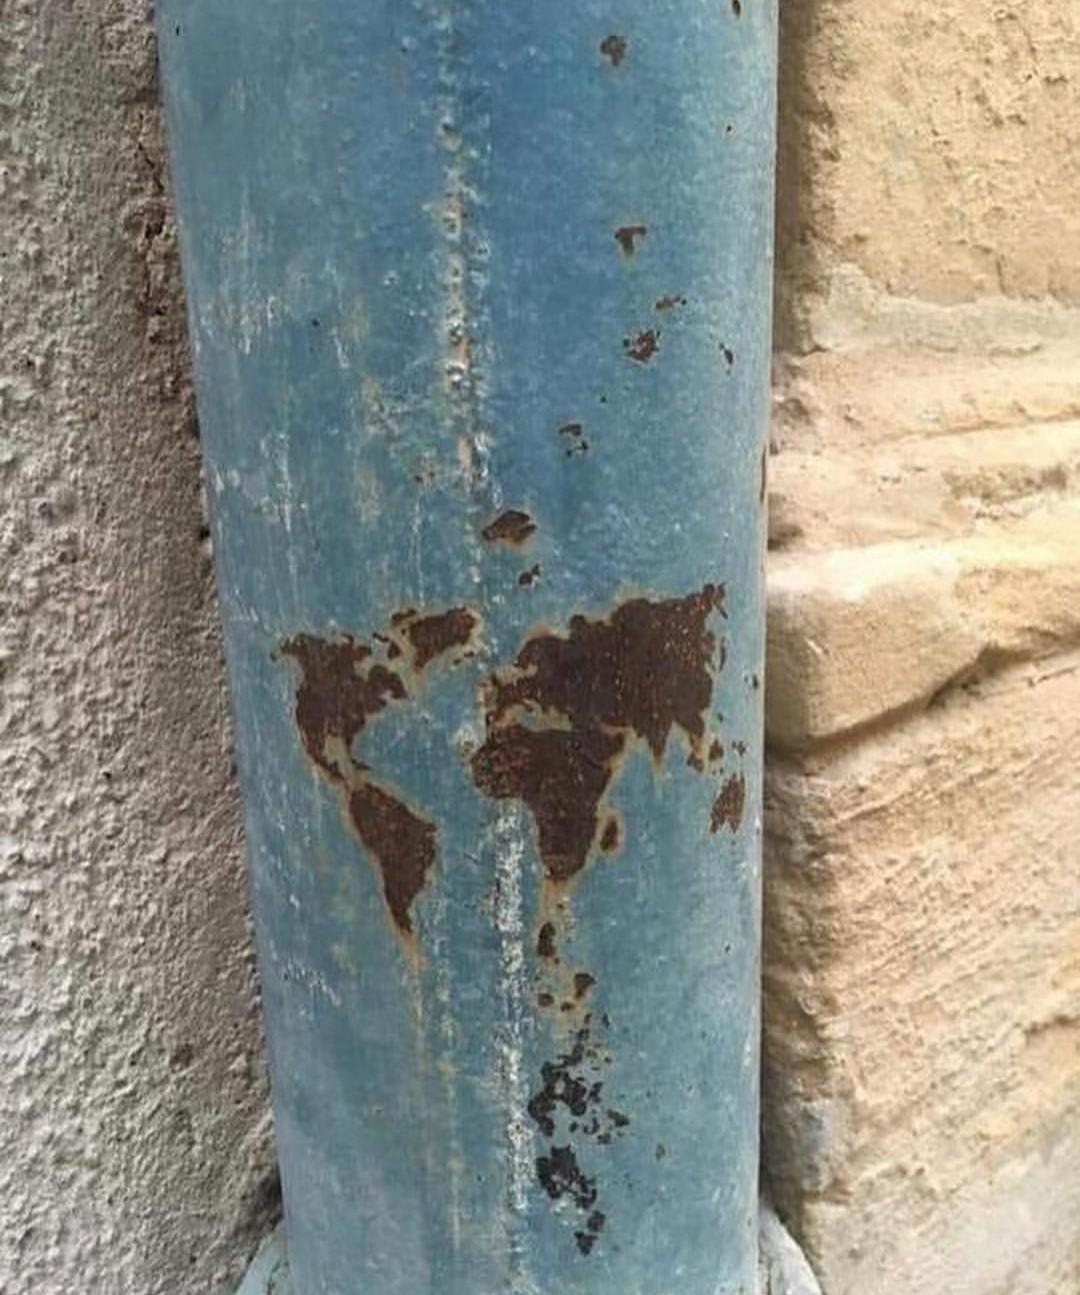Moderate: (212, 473, 780, 986)
